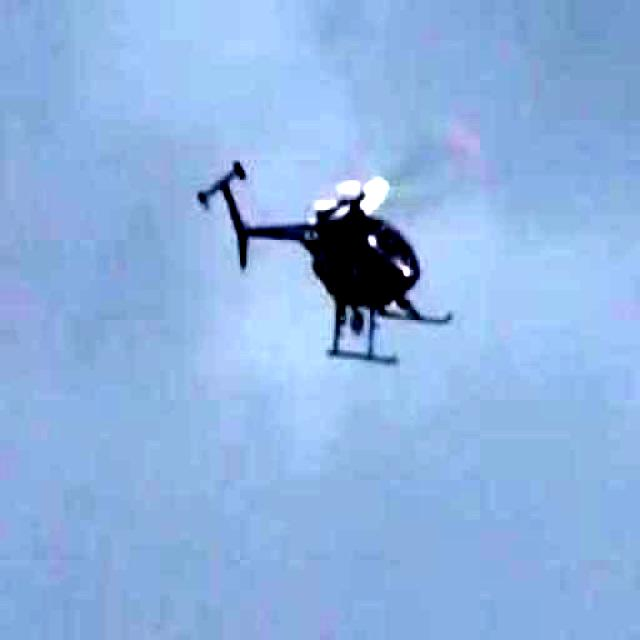drone: (139, 71, 495, 398)
